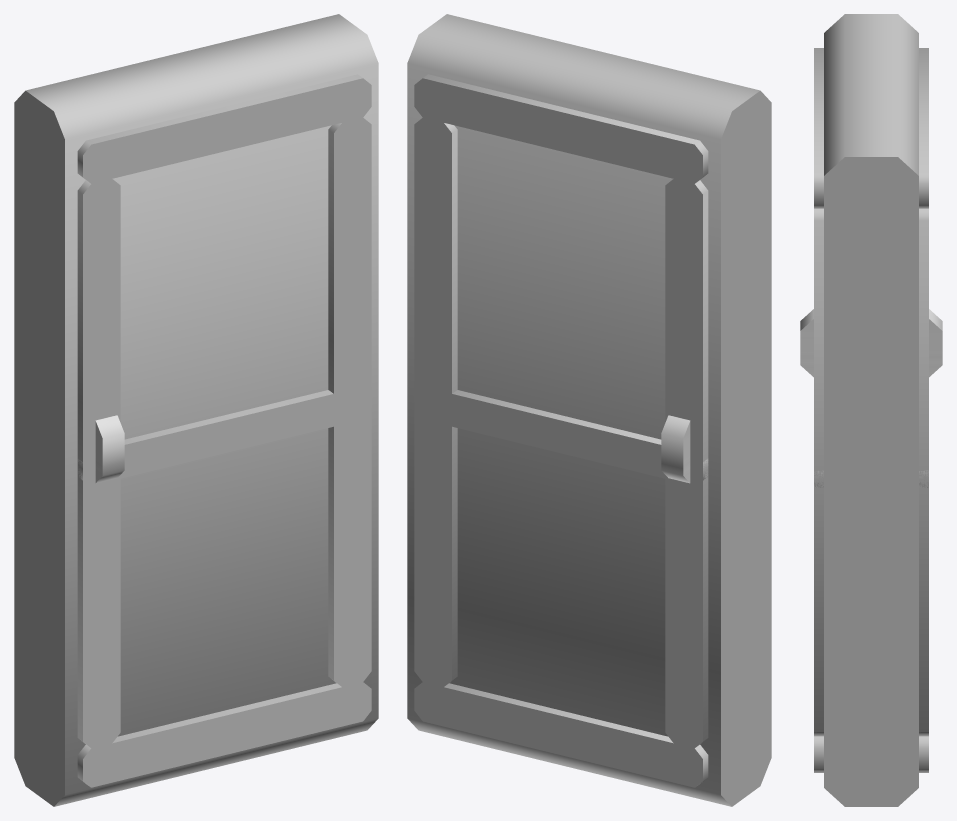
The model's file is door_leaf.obj.
3 renders of one model, left to right at view 1: azimuth 30°, elevation 25°; view 2: azimuth 150°, elevation 25°; view 3: azimuth 270°, elevation 25°, orthographic. The views are drawn at different scales.
Visible parts, largest first — view 1: source_part_00, source_part_04, source_part_03, source_part_02, source_part_01, source_part_05, source_part_11; view 2: source_part_00, source_part_09, source_part_08, source_part_07, source_part_06, source_part_10, source_part_11; view 3: source_part_00, source_part_04, source_part_09, source_part_02, source_part_07, source_part_11, source_part_01, source_part_06.
Boxes of the visible parts, x1,y1,x2,y2 form: source_part_00: [14, 14, 378, 806]; source_part_04: [328, 117, 371, 686]; source_part_03: [77, 179, 120, 748]; source_part_02: [77, 74, 371, 183]; source_part_01: [77, 682, 371, 787]; source_part_05: [78, 386, 371, 485]; source_part_11: [95, 415, 124, 483]; source_part_00: [407, 14, 771, 806]; source_part_09: [414, 117, 457, 686]; source_part_08: [665, 179, 708, 748]; source_part_07: [414, 74, 708, 183]; source_part_06: [414, 682, 708, 787]; source_part_10: [414, 386, 708, 485]; source_part_11: [661, 415, 690, 483]; source_part_00: [824, 14, 918, 806]; source_part_04: [814, 208, 823, 736]; source_part_09: [919, 208, 928, 736]; source_part_02: [814, 48, 823, 208]; source_part_07: [919, 48, 928, 208]; source_part_11: [800, 309, 942, 377]; source_part_01: [814, 736, 823, 772]; source_part_06: [919, 736, 928, 772].
Bounding box in the file's own units: 0.5 × 1.06 × 0.21.
